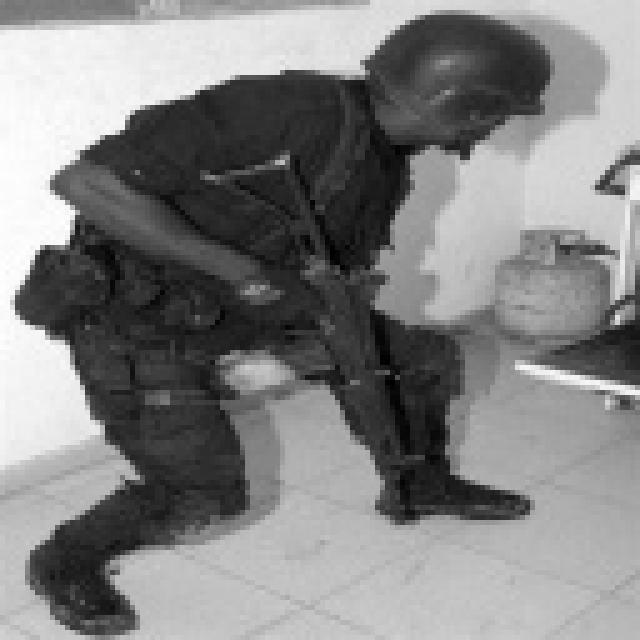Rifle: (183, 148, 528, 578)
